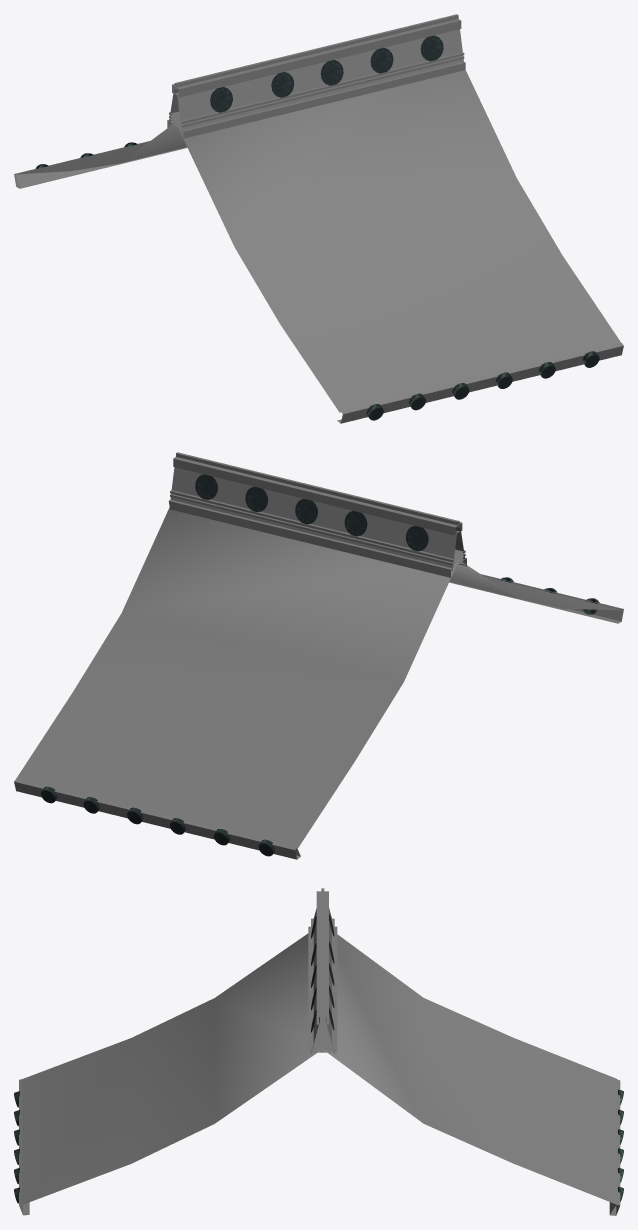
The model's file is Attic_Structure.fbx.
3 renders of one model, top to bottom at view 1: azimuth 30°, elevation 25°; view 2: azimuth 150°, elevation 25°; view 3: azimuth 270°, elevation 25°, orthographic. The views are drawn at different scales.
Visible parts, largest first — view 1: Attic_Structure; view 2: Attic_Structure; view 3: Attic_Structure.
Part boxes in pixels (left/top/right/bottom): Attic_Structure: left=14, top=14, right=623, bottom=423; Attic_Structure: left=14, top=452, right=623, bottom=859; Attic_Structure: left=14, top=888, right=623, bottom=1215.
Size of the model in its own units: 504 by 380 by 1032.
